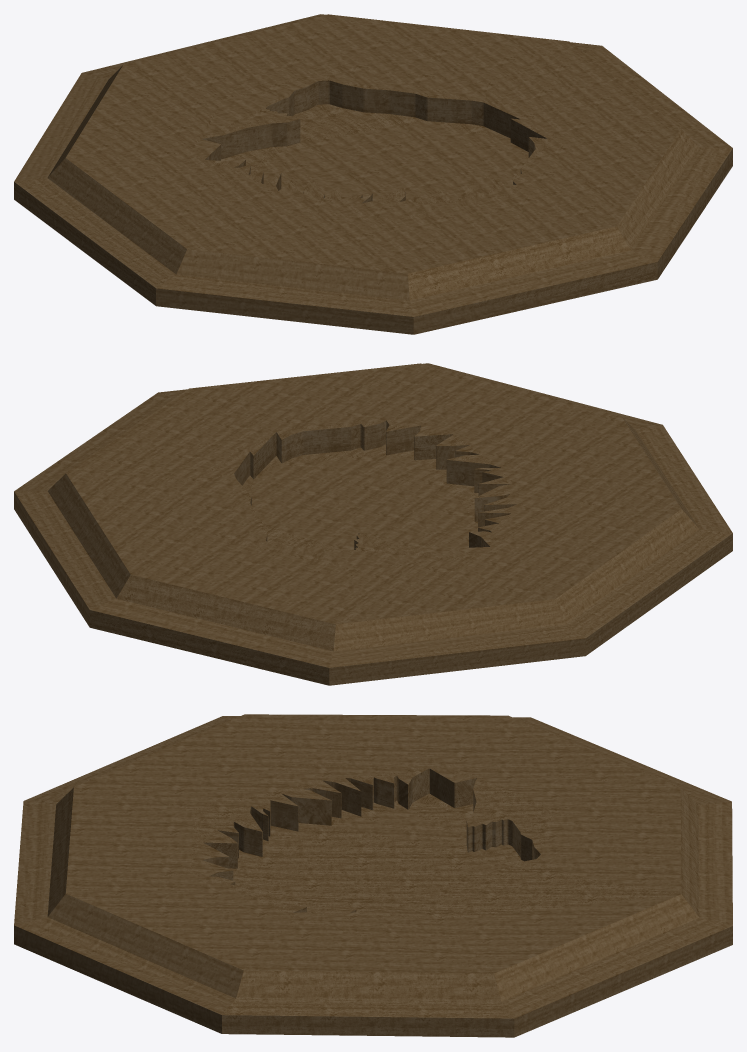
File: mdl_brush_hutfloor.gltf
3 views of the same model, one above another, from view 1: azimuth 30°, elevation 25°; view 2: azimuth 150°, elevation 25°; view 3: azimuth 270°, elevation 25° (orthographic). The views are drawn at different scales.
Parts seen in each view (by area): view 1: hut floor.003; view 2: hut floor.003; view 3: hut floor.003.
Part boxes in pixels (x1,y1,x2,y2): hut floor.003: [14, 14, 732, 334]; hut floor.003: [14, 363, 732, 685]; hut floor.003: [14, 714, 732, 1037].
Bounding box in the file's own units: 2.75 × 0.1792 × 2.76.
Materials: 1 (1 with a texture image).
